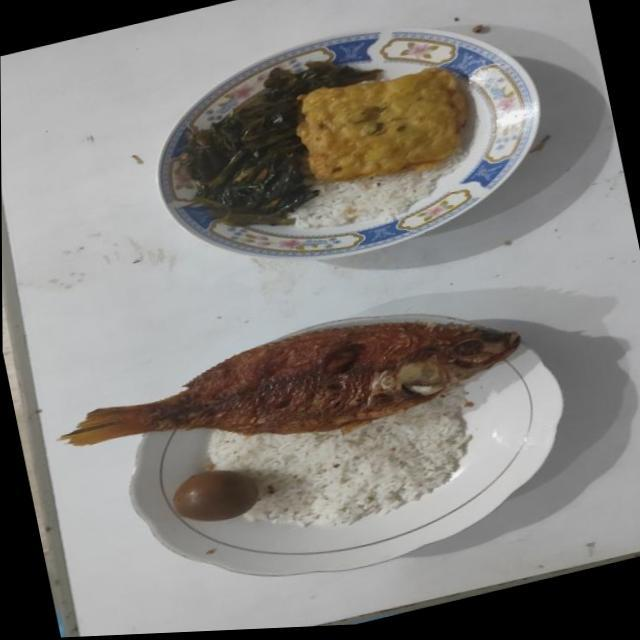ikan_mujair: (59, 322, 520, 445)
nasi_putih: (208, 386, 472, 526), (293, 150, 468, 228)
tumis_kangkung: (180, 60, 381, 226)
